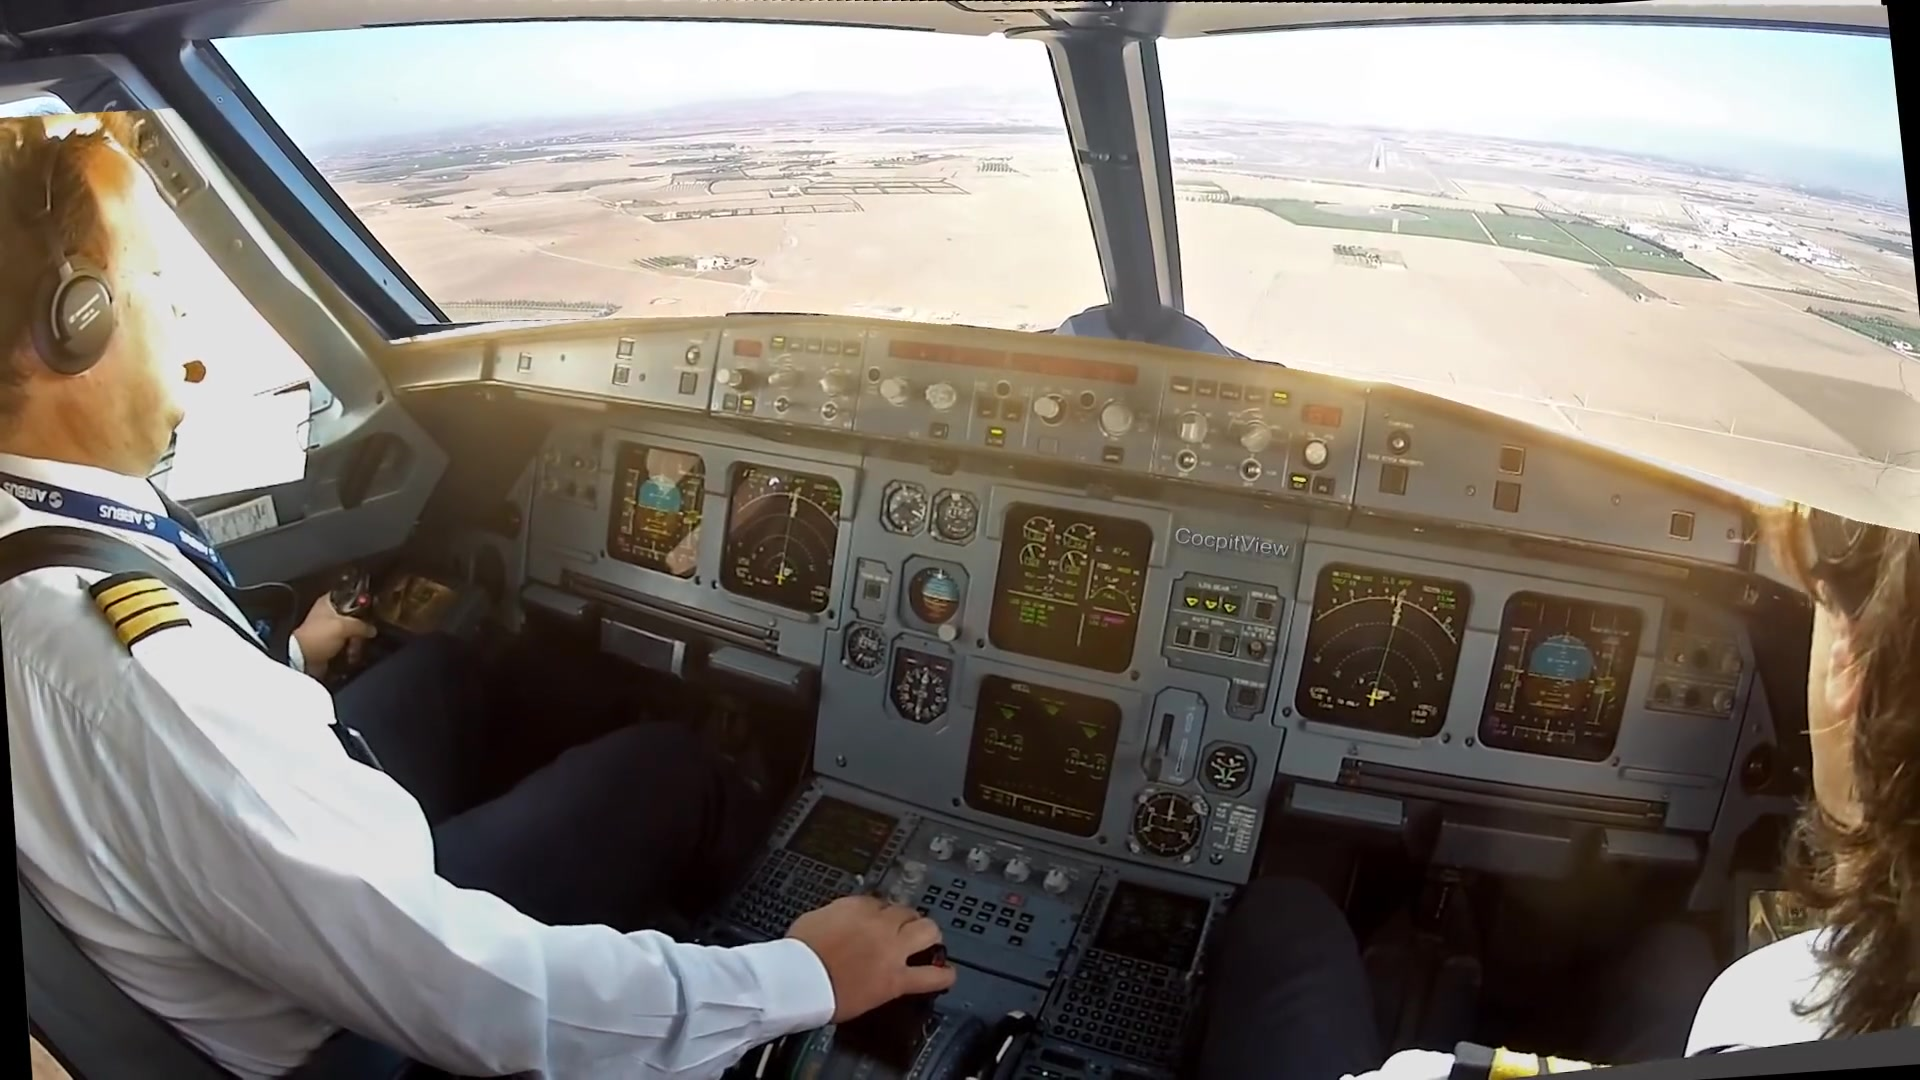runway: (1365, 137, 1390, 175)
